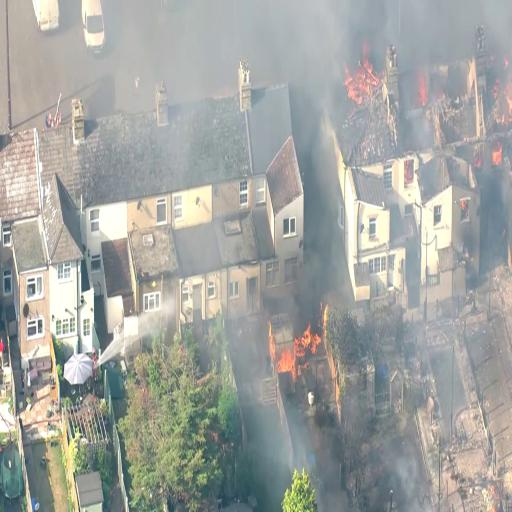fire: (338, 34, 388, 110), (260, 319, 317, 376)
